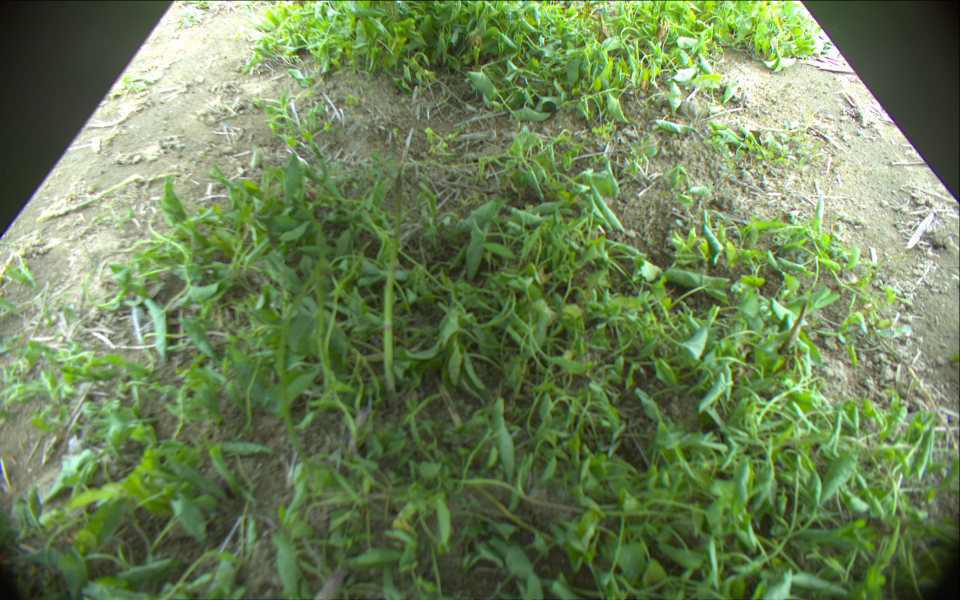aspa: (379, 168, 405, 400), (779, 294, 810, 355), (310, 569, 347, 600)
